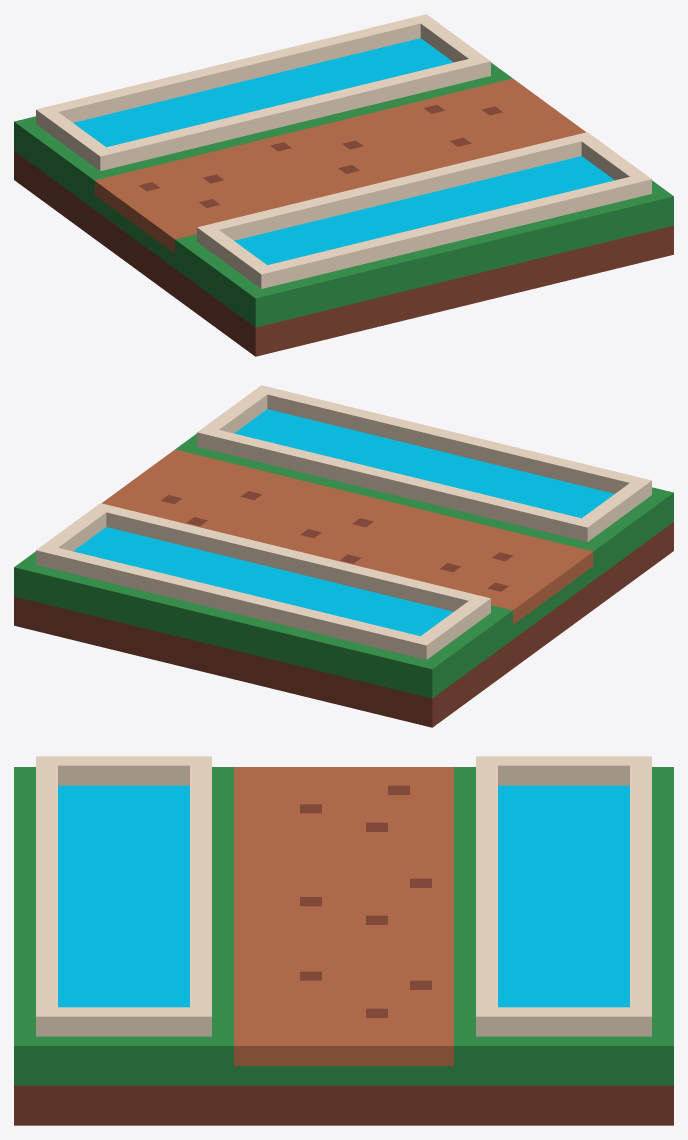
The model's file is ParkTile02.obj.
3 renders of one model, top to bottom at view 1: azimuth 30°, elevation 25°; view 2: azimuth 150°, elevation 25°; view 3: azimuth 270°, elevation 25°, orthographic. The views are drawn at different scales.
Size of the model in its own units: 3 by 0.5 by 3.
Materials: 1 (1 with a texture image).
